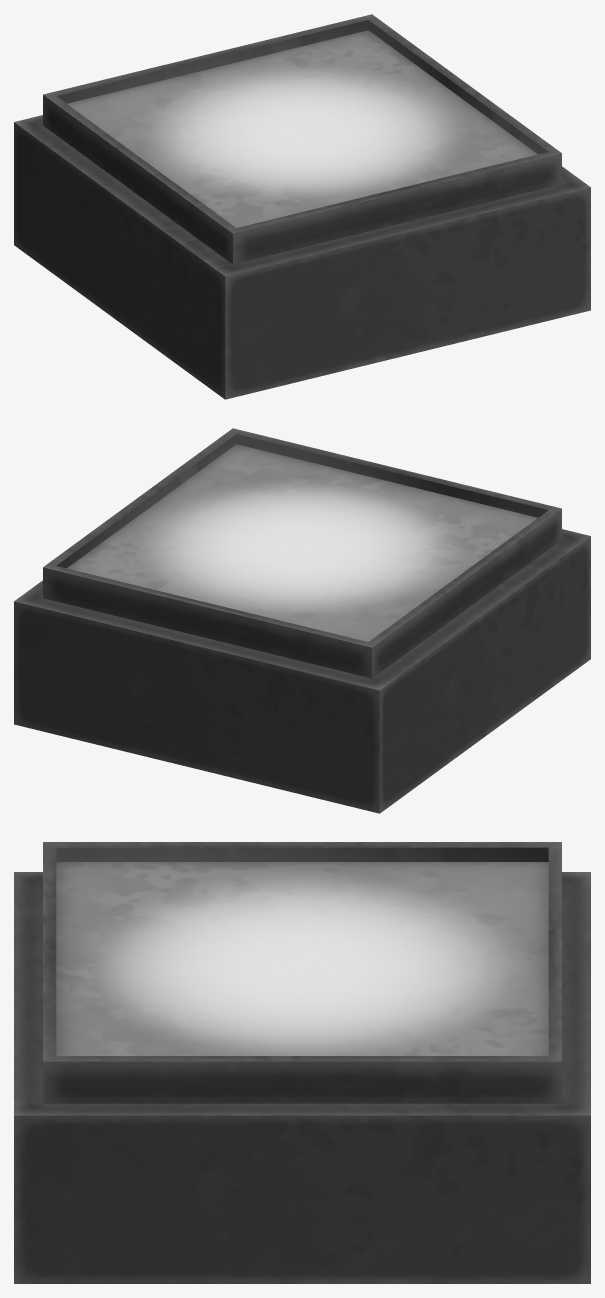
The model's file is Lamp_01.glb.
3 views of the same model, one above another, from view 1: azimuth 30°, elevation 25°; view 2: azimuth 150°, elevation 25°; view 3: azimuth 270°, elevation 25° (orthographic). The views are drawn at different scales.
Visible parts, largest first — view 1: Lamp_01.001; view 2: Lamp_01.001; view 3: Lamp_01.001.
Boxes of the visible parts, bbox=[...] form: Lamp_01.001: bbox=[14, 14, 590, 399]; Lamp_01.001: bbox=[14, 428, 590, 813]; Lamp_01.001: bbox=[14, 842, 590, 1283].
Bounding box in the file's own units: 0.616 × 0.2475 × 0.616.
1 material, 1 textured.
